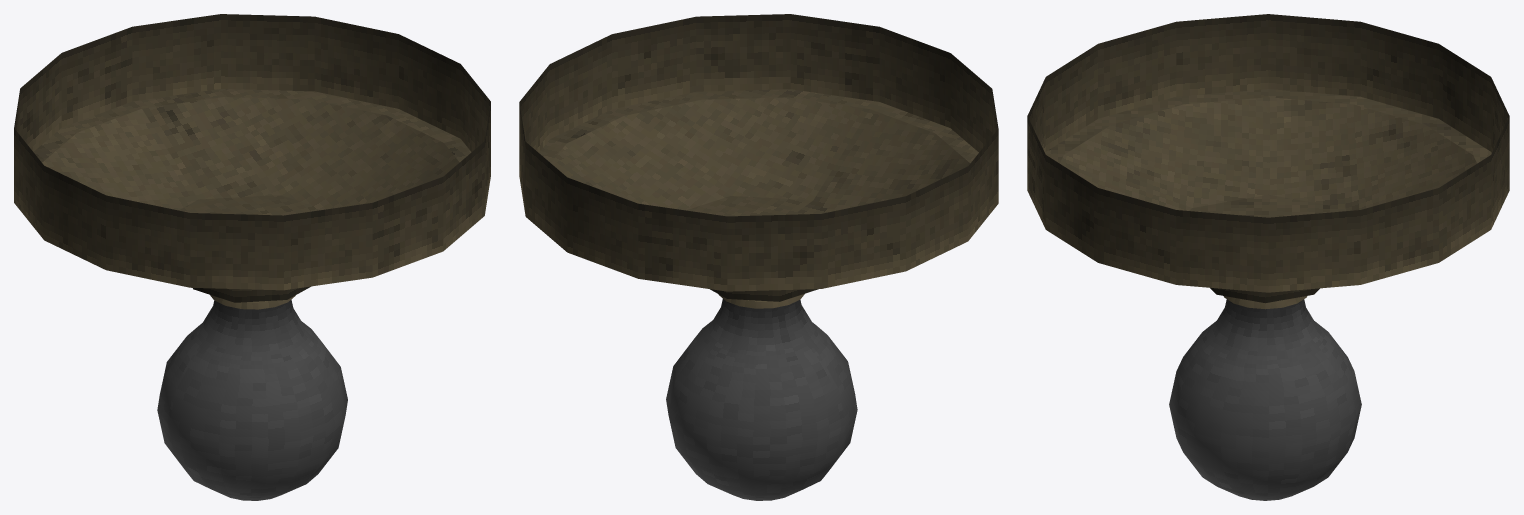
Rendered from ceiling_lamp_mp_1_1_off.glb.
3 renders of one model, left to right at view 1: azimuth 30°, elevation 25°; view 2: azimuth 150°, elevation 25°; view 3: azimuth 270°, elevation 25°, orthographic.
Parts seen in each view (by area): view 1: ceiling_lamp_mp_1_1_off; view 2: ceiling_lamp_mp_1_1_off; view 3: ceiling_lamp_mp_1_1_off.
Boxes of the visible parts, x1,y1,x2,y2 form: ceiling_lamp_mp_1_1_off: [14, 14, 490, 500]; ceiling_lamp_mp_1_1_off: [519, 14, 998, 500]; ceiling_lamp_mp_1_1_off: [1027, 14, 1509, 500].
Size of the model in its own units: 0.215 by 0.1855 by 0.215.
2 materials, 2 textured.
